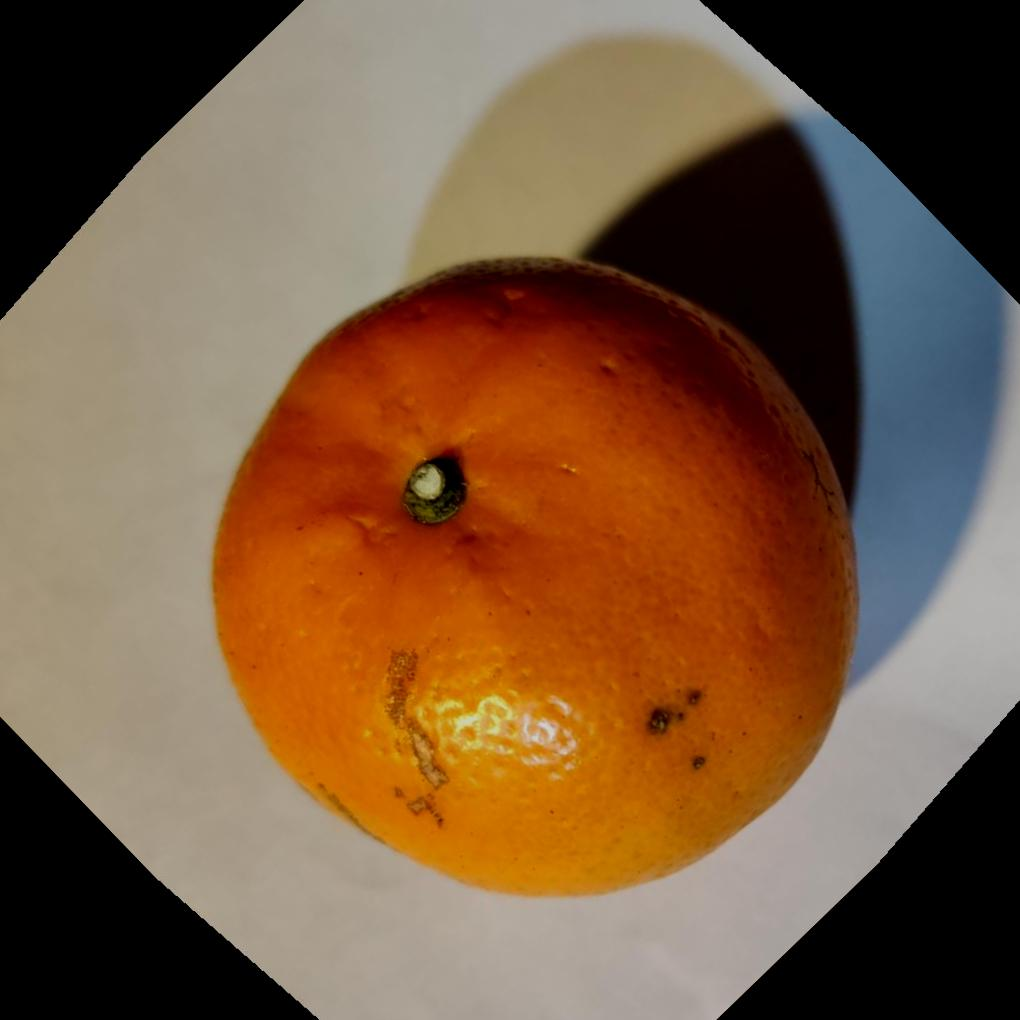FreshGuava: (211, 254, 863, 904)
